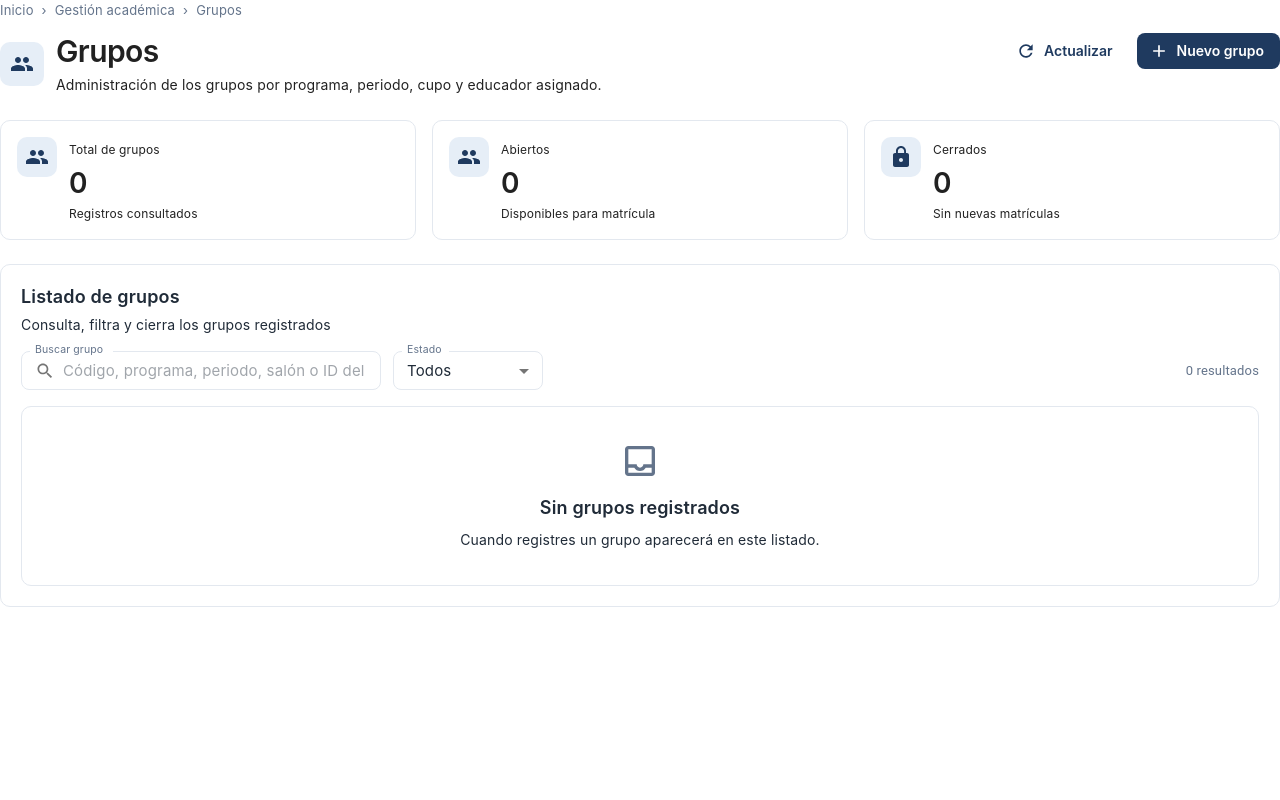
Test case: autorelleno de UID › prerellena el UID del educador al crear un grupo y permite restaurarlo
Click the button "Nuevo grupo".
click(1208, 51)  # box x1=1137 y1=33 x2=1279 y2=69
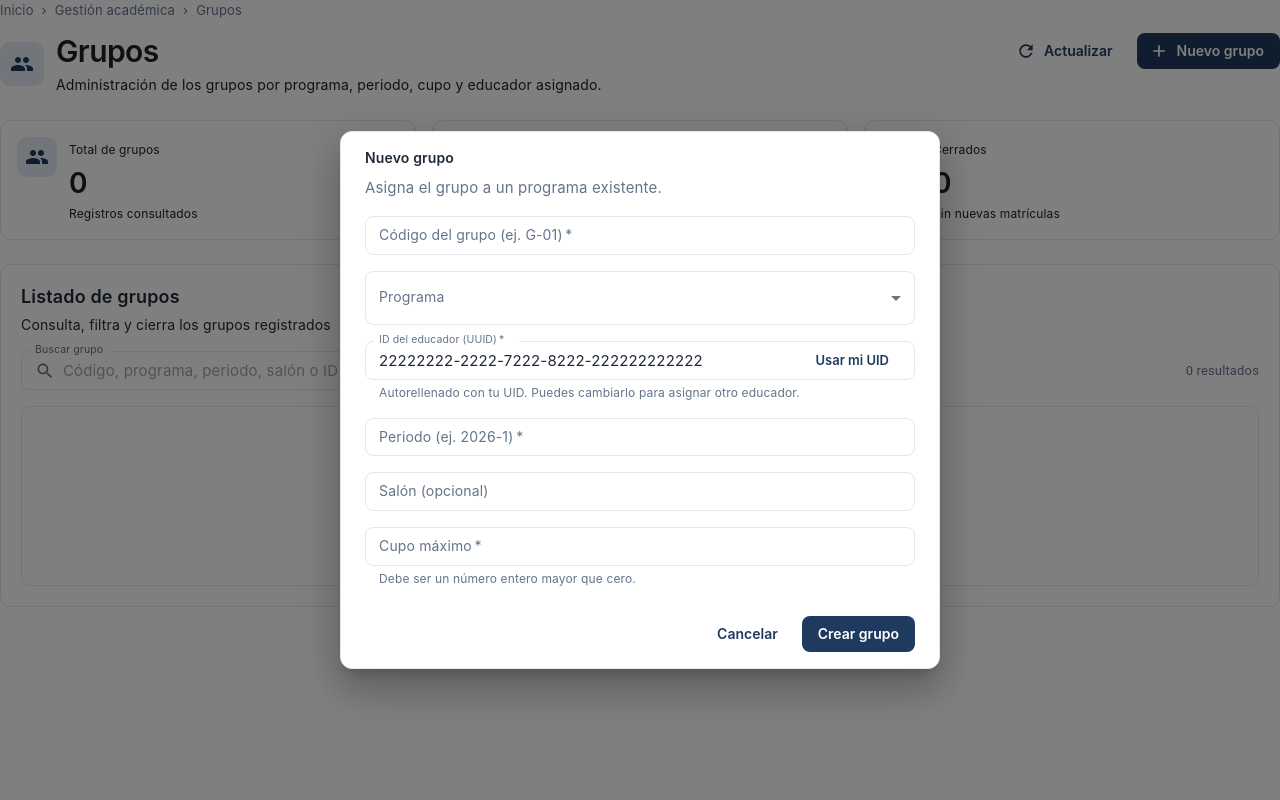
Now the field labelled "ID del educador (UUID) *" holds "22222222-2222-7222-8222-222222222222"
Now the button "Usar mi UID" is shown, box x1=804 y1=345 x2=901 y2=376
Replace the text in the field labelled "ID del educador (UUID) *" with "otro-educador" at (580, 361), box x1=365 y1=341 x2=796 y2=380
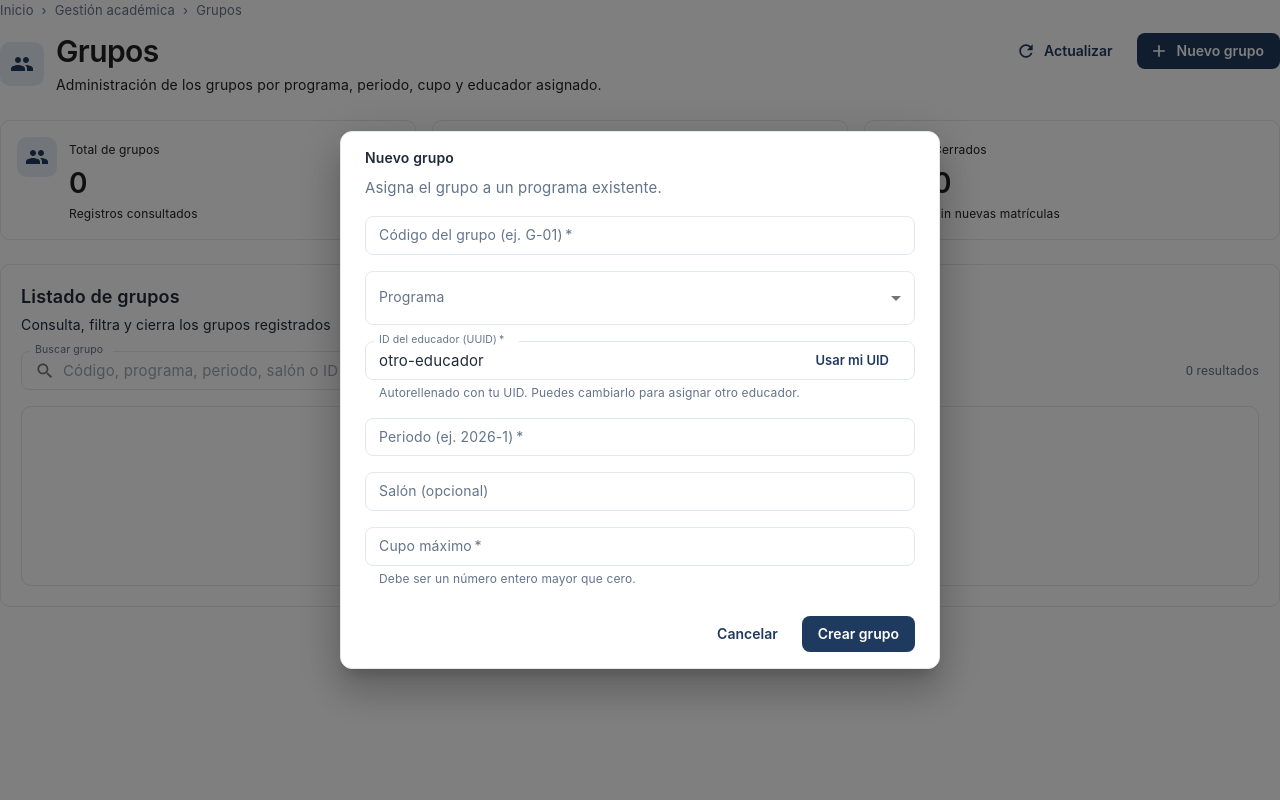
Click the button "Usar mi UID".
click(852, 361)  # box x1=804 y1=345 x2=901 y2=376
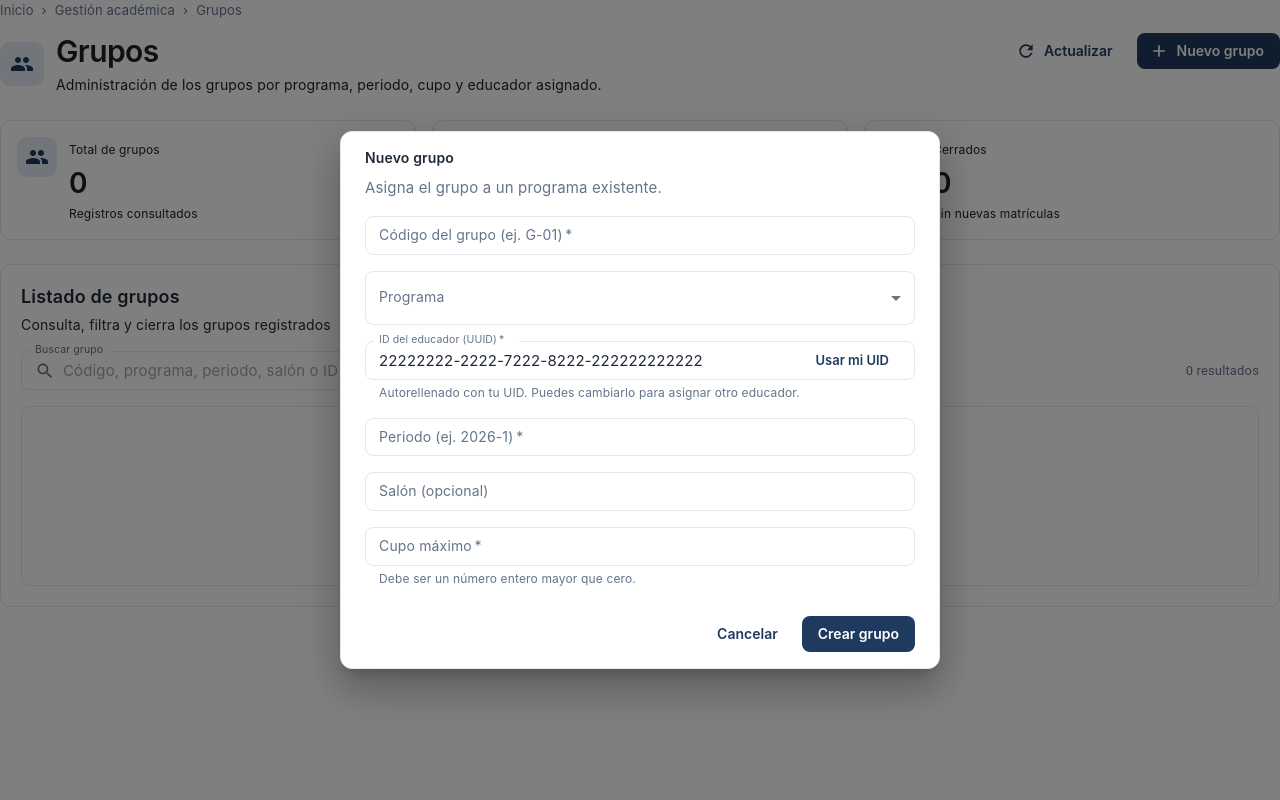
Now the field labelled "ID del educador (UUID) *" holds "22222222-2222-7222-8222-222222222222", box x1=365 y1=341 x2=796 y2=380
